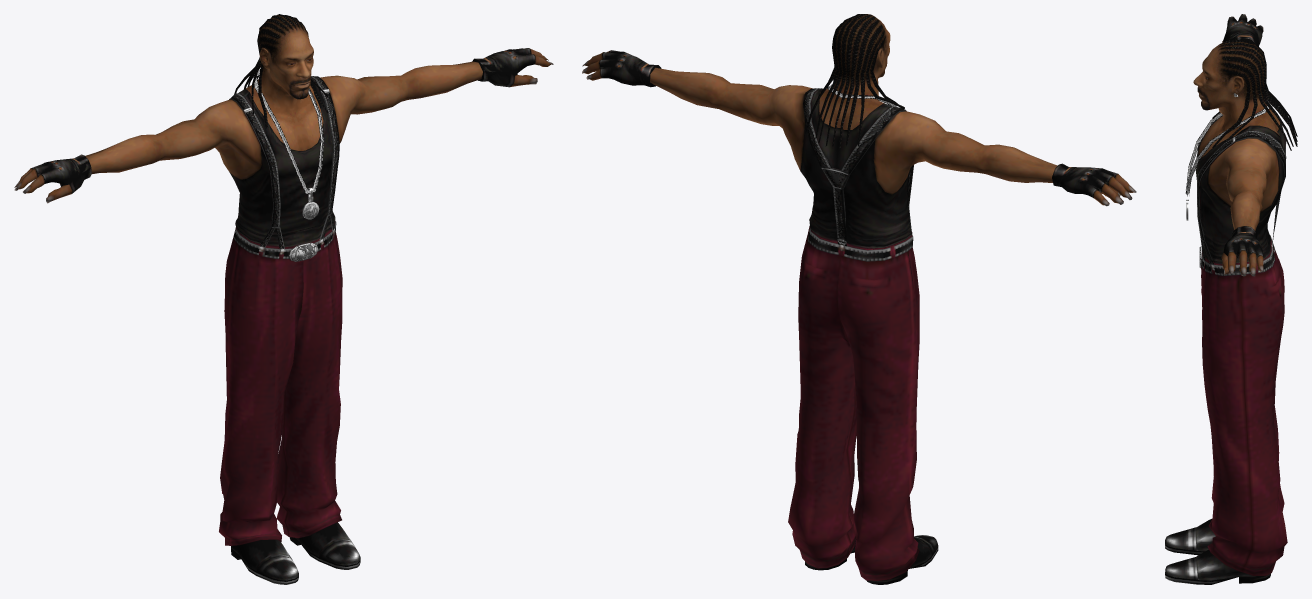
File: SnoopDogg.glb
The picture shows the model from 3 angles, left to right: view 1: azimuth 30°, elevation 25°; view 2: azimuth 150°, elevation 25°; view 3: azimuth 270°, elevation 25°; orthographic projection. The views are drawn at different scales.
Parts seen in each view (by area): view 1: snoop_dog.001; view 2: snoop_dog.001; view 3: snoop_dog.001.
Part boxes in pixels (left/top/right/bottom): snoop_dog.001: left=14, top=14, right=553, bottom=584; snoop_dog.001: left=582, top=14, right=1136, bottom=584; snoop_dog.001: left=1165, top=14, right=1297, bottom=584.
Size of the model in its own units: 2.62 by 2.49 by 0.5767.
Materials: 1 (1 with a texture image).
